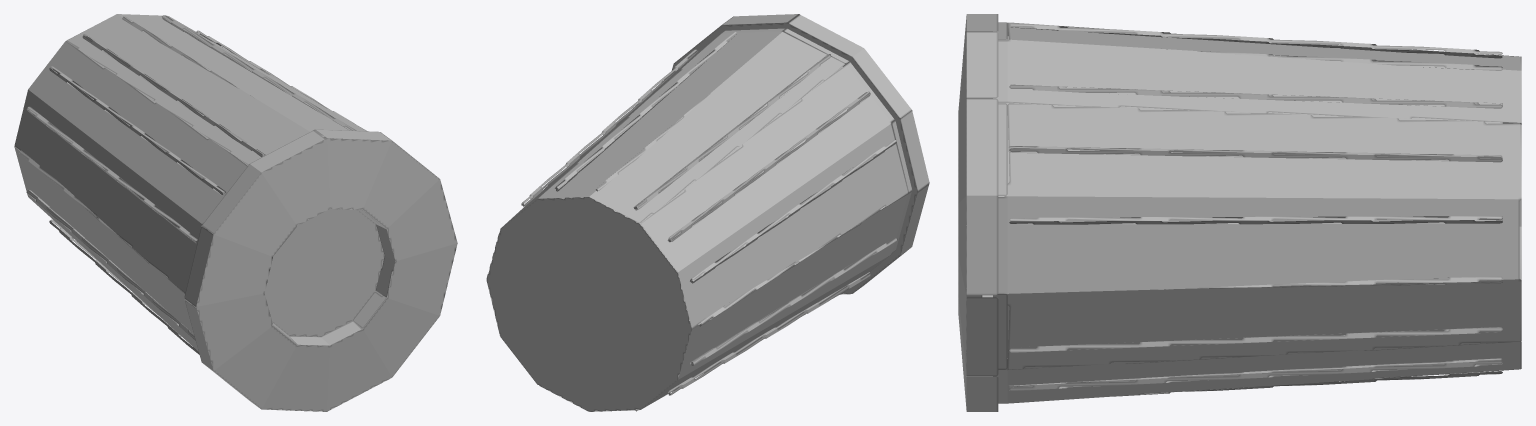
The model's file is pz_trashbin_public.obj.
3 renders of one model, left to right at view 1: azimuth 30°, elevation 25°; view 2: azimuth 150°, elevation 25°; view 3: azimuth 270°, elevation 25°, orthographic. The views are drawn at different scales.
Parts seen in each view (by area): view 1: pz_trashbin_public_|_ring_top_with_real_disposal_opening, pz_trashbin_public_|_open_tapered_trash_body, pz_trashbin_public_|_native_longitudinal_rib.006, pz_trashbin_public_|_native_longitudinal_rib.007, pz_trashbin_public_|_native_longitudinal_rib.005, pz_trashbin_public_|_native_longitudinal_rib.003, pz_trashbin_public_|_native_longitudinal_rib.009, pz_trashbin_public_|_native_longitudinal_rib.010, pz_trashbin_public_|_native_longitudinal_rib.004; view 2: pz_trashbin_public_|_open_tapered_trash_body, pz_trashbin_public_|_ring_top_with_real_disposal_opening, pz_trashbin_public_|_native_longitudinal_rib.006, pz_trashbin_public_|_native_longitudinal_rib.007, pz_trashbin_public_|_native_longitudinal_rib.005, pz_trashbin_public_|_native_longitudinal_rib.010, pz_trashbin_public_|_native_longitudinal_rib.002, pz_trashbin_public_|_native_longitudinal_rib.009, pz_trashbin_public_|_native_longitudinal_rib.003, pz_trashbin_public_|_native_longitudinal_rib.008, pz_trashbin_public_|_native_longitudinal_rib.004; view 3: pz_trashbin_public_|_open_tapered_trash_body, pz_trashbin_public_|_ring_top_with_real_disposal_opening, pz_trashbin_public_|_native_longitudinal_rib.001, pz_trashbin_public_|_native_longitudinal_rib.002, pz_trashbin_public_|_native_longitudinal_rib.014, pz_trashbin_public_|_native_longitudinal_rib.005, pz_trashbin_public_|_native_longitudinal_rib.003, pz_trashbin_public_|_native_longitudinal_rib.015, pz_trashbin_public_|_native_longitudinal_rib, pz_trashbin_public_|_native_longitudinal_rib.004, pz_trashbin_public_|_native_longitudinal_rib.013.
Part boxes in pixels (left/top/right/bottom): pz_trashbin_public_|_ring_top_with_real_disposal_opening: left=184, top=129, right=457, bottom=411; pz_trashbin_public_|_open_tapered_trash_body: left=14, top=14, right=376, bottom=362; pz_trashbin_public_|_native_longitudinal_rib.006: left=49, top=66, right=225, bottom=195; pz_trashbin_public_|_native_longitudinal_rib.007: left=26, top=106, right=197, bottom=243; pz_trashbin_public_|_native_longitudinal_rib.005: left=82, top=34, right=265, bottom=157; pz_trashbin_public_|_native_longitudinal_rib.003: left=161, top=15, right=356, bottom=130; pz_trashbin_public_|_native_longitudinal_rib.009: left=26, top=189, right=195, bottom=340; pz_trashbin_public_|_native_longitudinal_rib.010: left=49, top=219, right=199, bottom=354; pz_trashbin_public_|_native_longitudinal_rib.004: left=122, top=16, right=253, bottom=97; pz_trashbin_public_|_open_tapered_trash_body: left=486, top=28, right=911, bottom=411; pz_trashbin_public_|_ring_top_with_real_disposal_opening: left=671, top=14, right=929, bottom=294; pz_trashbin_public_|_native_longitudinal_rib.006: left=667, top=91, right=870, bottom=242; pz_trashbin_public_|_native_longitudinal_rib.007: left=690, top=139, right=896, bottom=283; pz_trashbin_public_|_native_longitudinal_rib.005: left=633, top=54, right=831, bottom=210; pz_trashbin_public_|_native_longitudinal_rib.010: left=668, top=272, right=870, bottom=395; pz_trashbin_public_|_native_longitudinal_rib.002: left=521, top=49, right=698, bottom=206; pz_trashbin_public_|_native_longitudinal_rib.009: left=690, top=238, right=897, bottom=365; pz_trashbin_public_|_native_longitudinal_rib.003: left=555, top=31, right=736, bottom=191; pz_trashbin_public_|_native_longitudinal_rib.008: left=698, top=206, right=885, bottom=326; pz_trashbin_public_|_native_longitudinal_rib.004: left=595, top=80, right=725, bottom=191; pz_trashbin_public_|_open_tapered_trash_body: left=993, top=22, right=1521, bottom=403; pz_trashbin_public_|_ring_top_with_real_disposal_opening: left=958, top=14, right=998, bottom=411; pz_trashbin_public_|_native_longitudinal_rib.001: left=1009, top=216, right=1502, bottom=224; pz_trashbin_public_|_native_longitudinal_rib.002: left=1008, top=146, right=1502, bottom=162; pz_trashbin_public_|_native_longitudinal_rib.014: left=1009, top=358, right=1502, bottom=391; pz_trashbin_public_|_native_longitudinal_rib.005: left=1009, top=23, right=1502, bottom=58; pz_trashbin_public_|_native_longitudinal_rib.003: left=1009, top=84, right=1502, bottom=108; pz_trashbin_public_|_native_longitudinal_rib.015: left=1008, top=327, right=1502, bottom=352; pz_trashbin_public_|_native_longitudinal_rib: left=1158, top=276, right=1502, bottom=289; pz_trashbin_public_|_native_longitudinal_rib.004: left=1154, top=48, right=1502, bottom=70; pz_trashbin_public_|_native_longitudinal_rib.013: left=1114, top=371, right=1502, bottom=396.
Bounding box in the file's own units: 0.38 × 0.38 × 0.536.
Materials: 1 (1 with a texture image).
